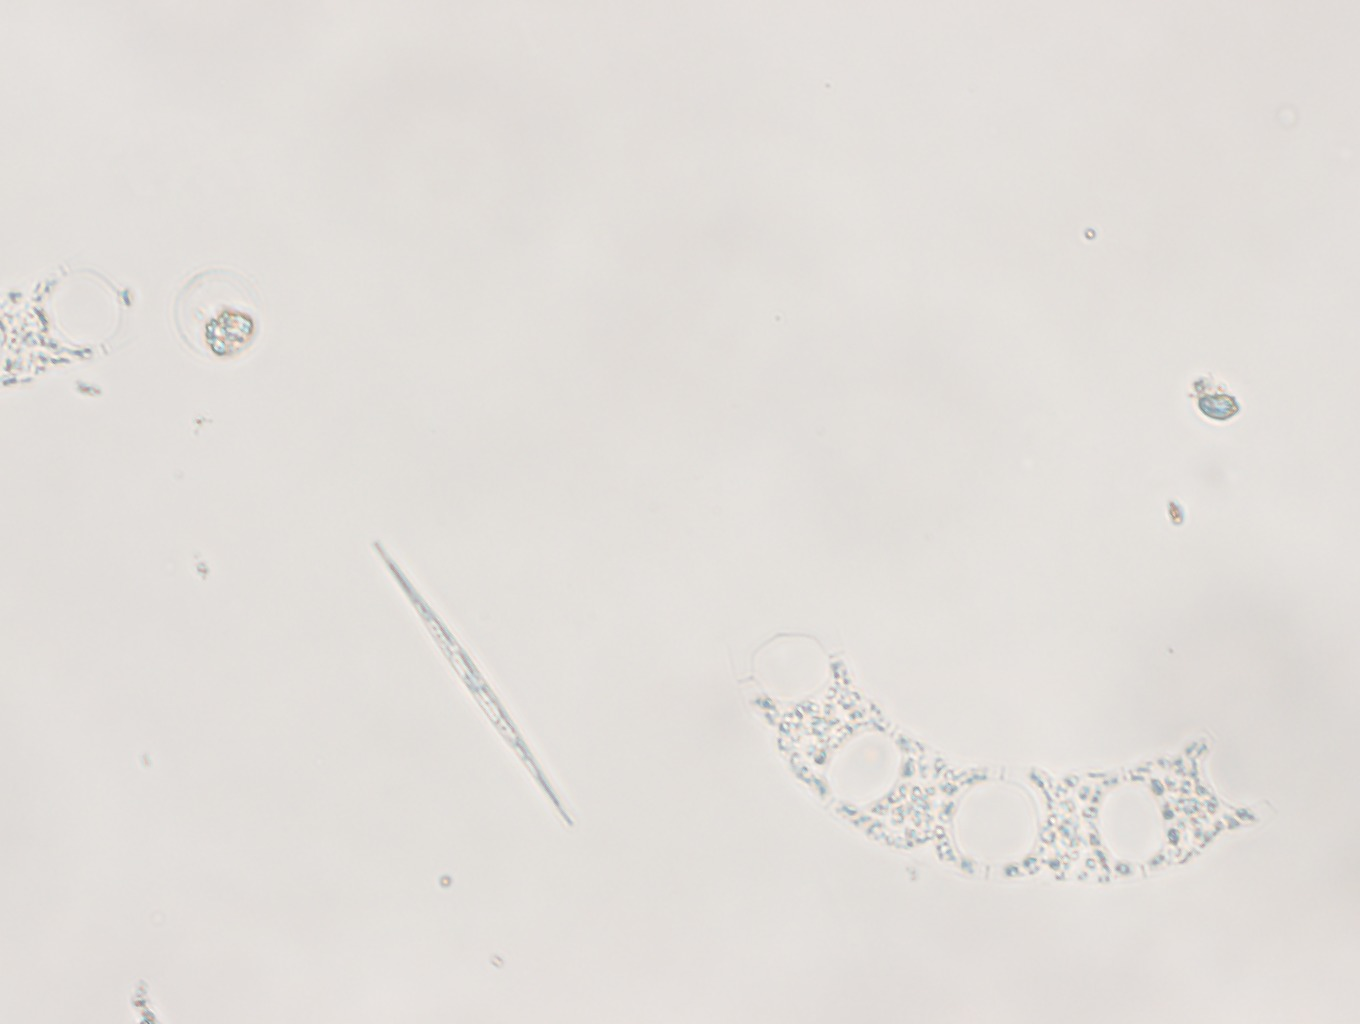eucampia: (722, 611, 1268, 893)
navicula: (364, 534, 573, 830)
